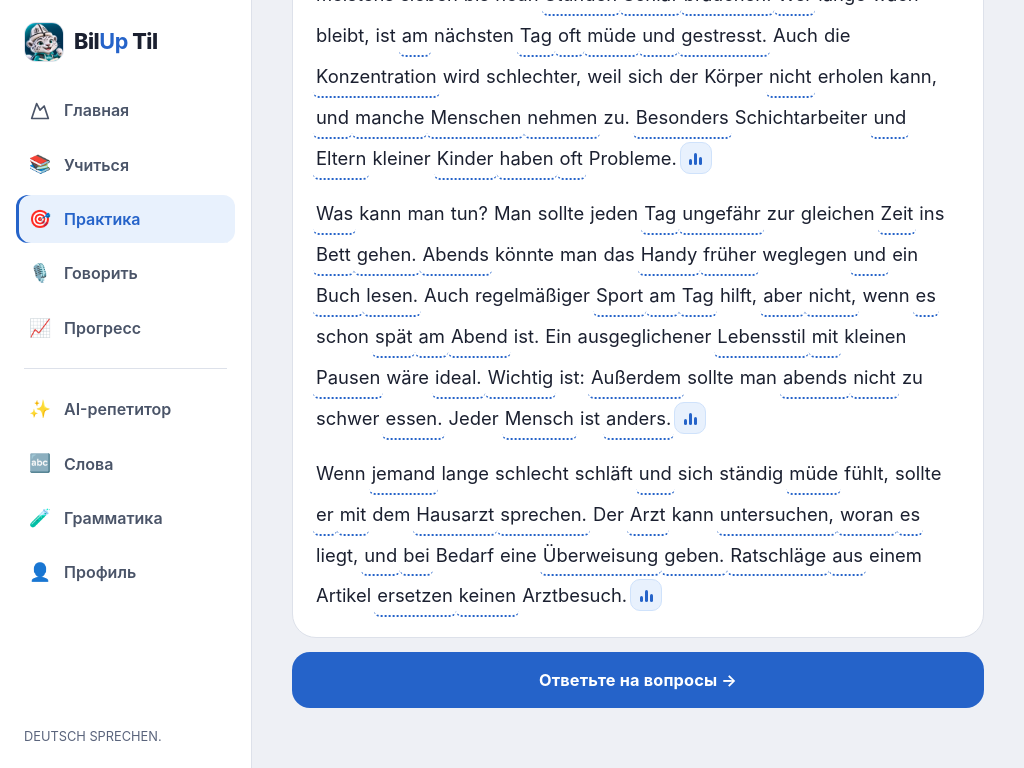
Test case: reading and listening flows › ru: the reading shows its text and questions; answering one gives feedback and no error is logged
This screenshot has width=1024, height=768.
Later steps or results of the test are not shown.
(page scrolled)
Click the button "Ответьте на вопросы →".
click(638, 680)  # box [292,652,984,708]
(page scrolled)
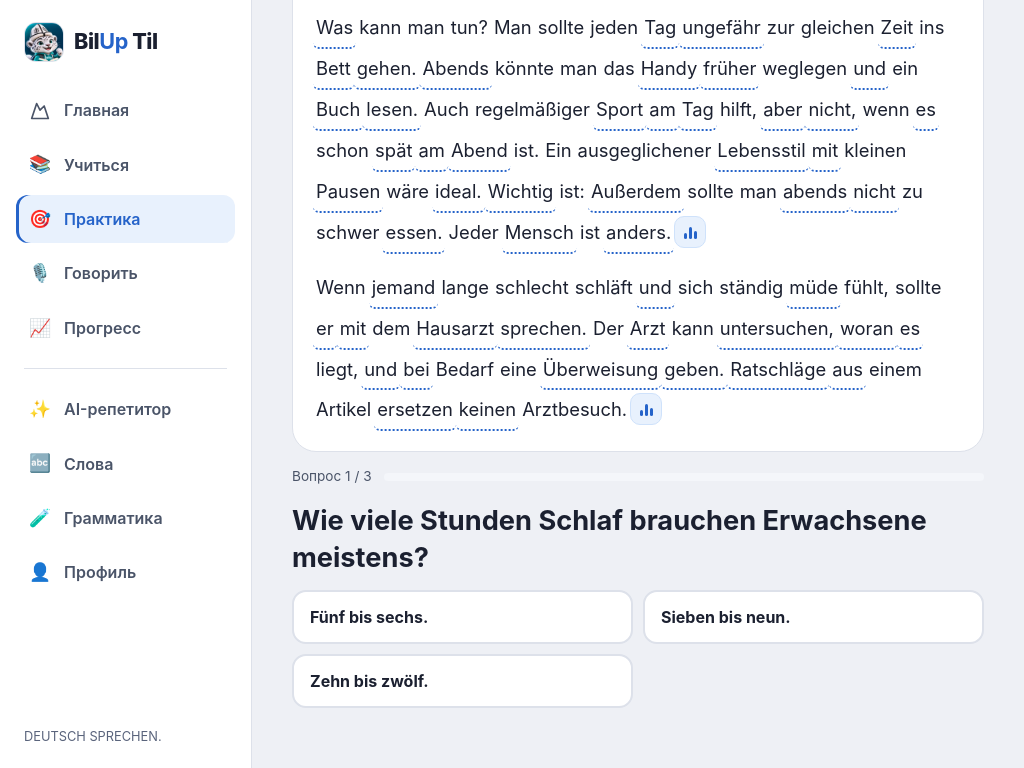
Expected: the text "Wie viele Stunden Schlaf brauchen Erwachsene meistens?" is shown, [292,503,984,576]
Expected: the button "Zehn bis zwölf." is shown, [292,654,633,708]
